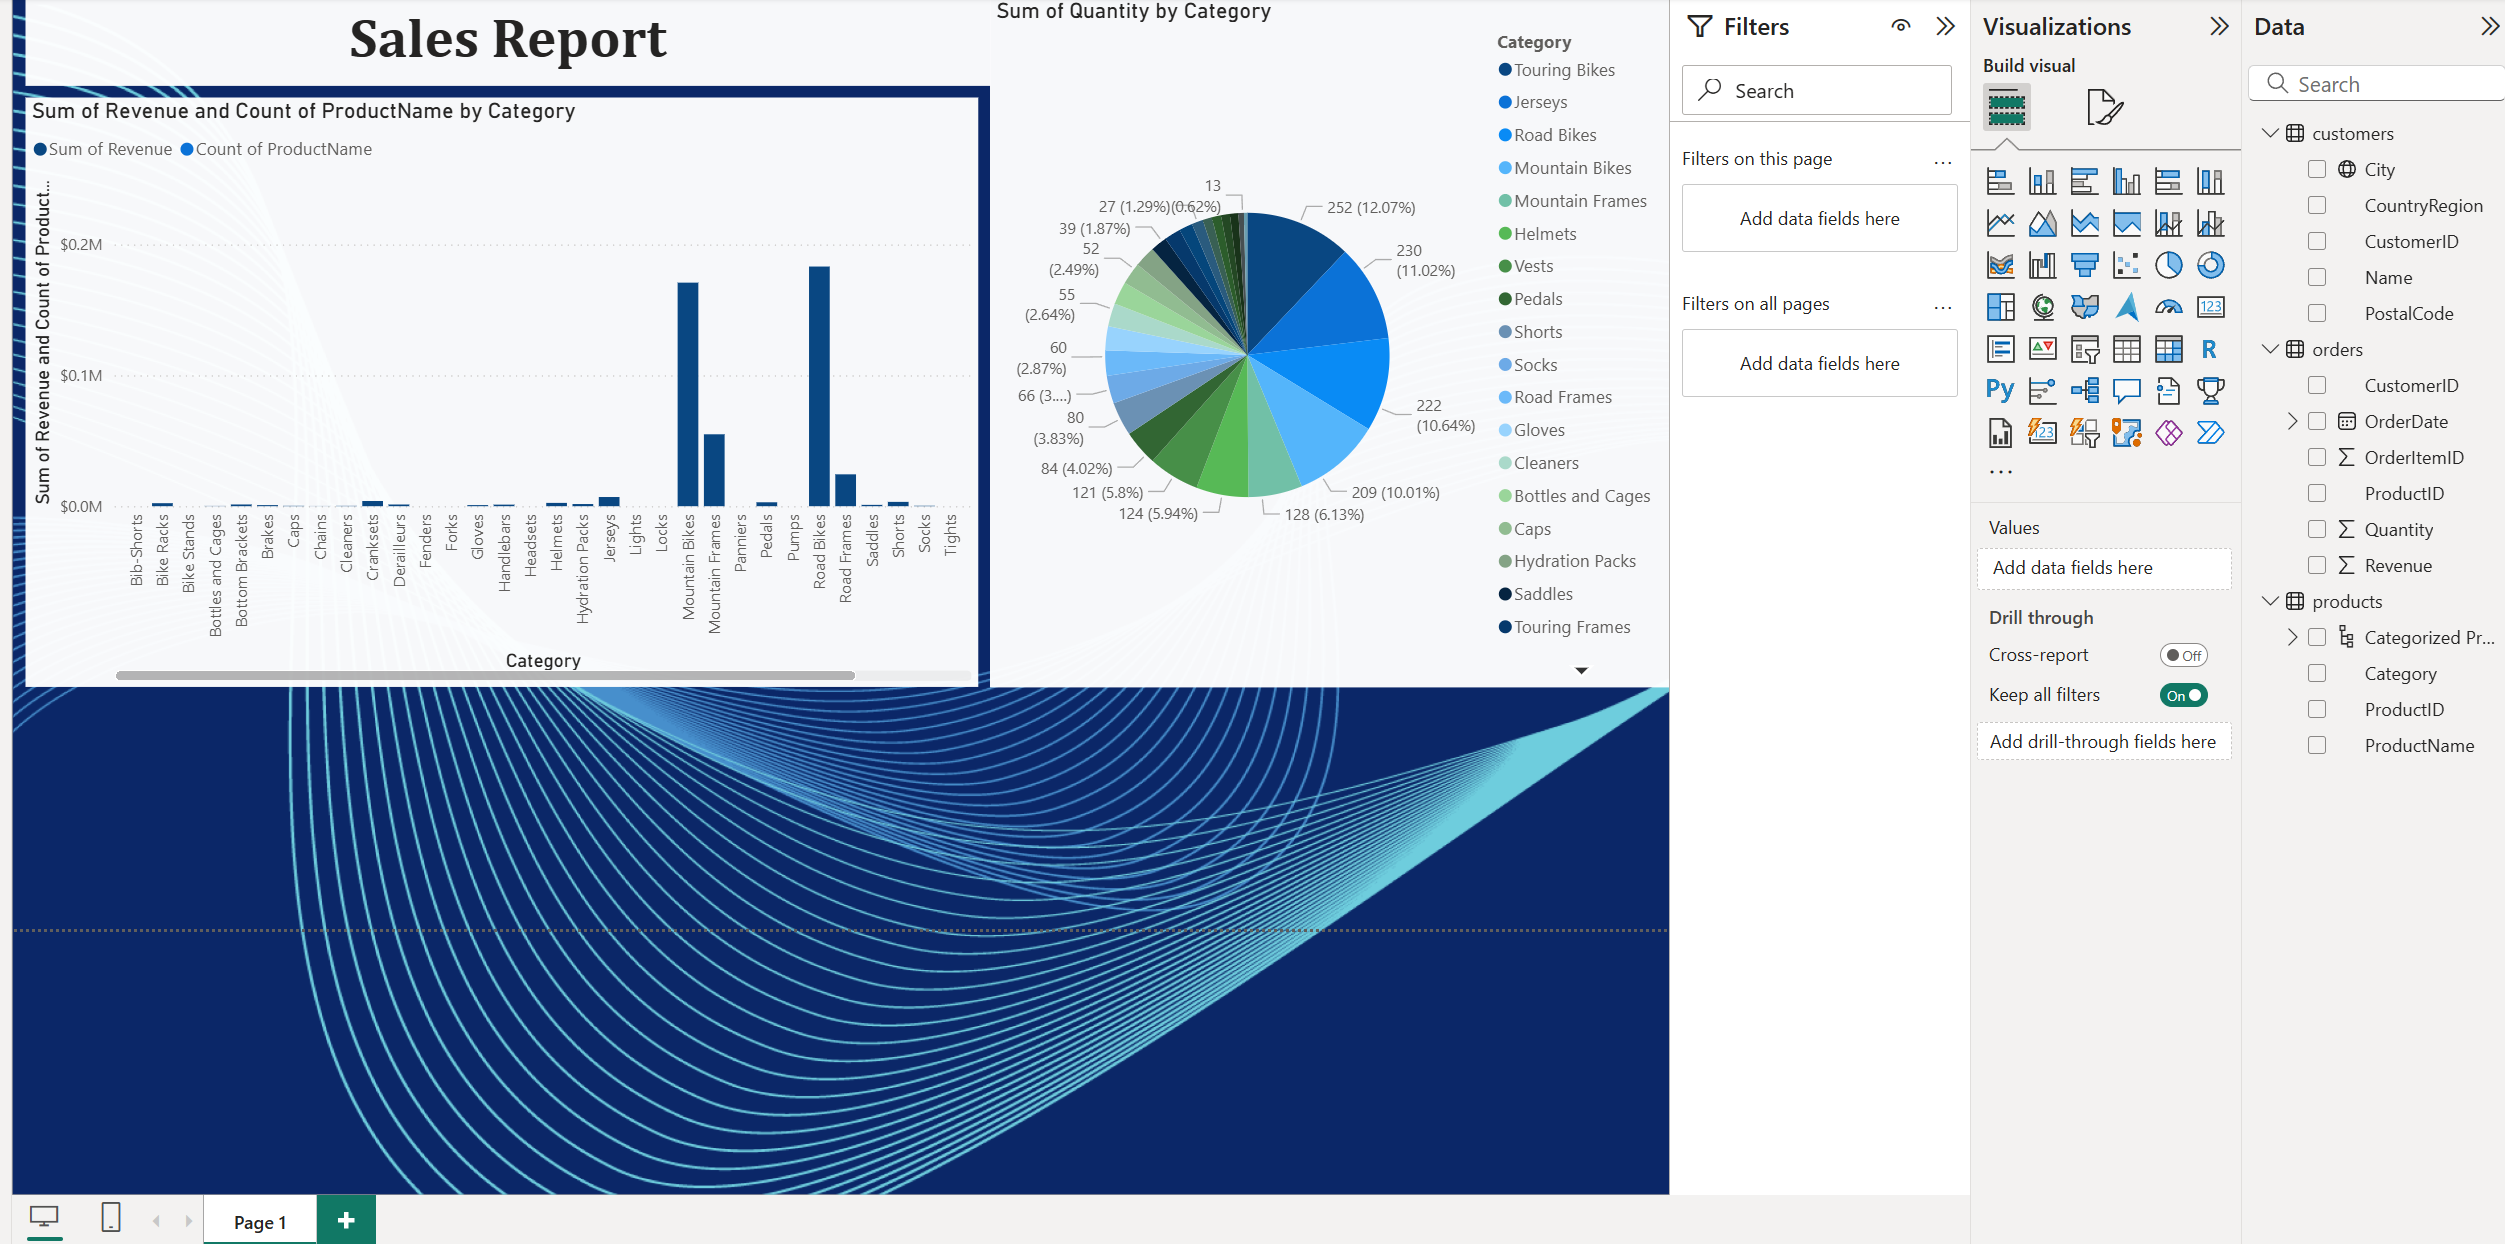

Layout of this report page (visuals, bound fields, positions):
{"tool":"powerbi","page":{"name":"Page 1","canvas":[1280,720],"ordinal":0},"visuals":[{"type":"textbox","box":[10.4,0,1270,68.4],"z":0},{"type":"columnChart","fields":{"Category":["products.Categorized Product.Category","products.Categorized Product.ProductName"],"Y":["Sum(orders.Revenue)","CountNonNull(products.ProductName)"]},"box":[0,264.2,745.1,455.4],"z":1000},{"type":"pieChart","fields":{"Category":["products.Category"],"Y":["Sum(orders.Quantity)"]},"box":[745.1,264.2,535.3,455.4],"z":2000},{"type":"map","fields":{"Category":["customers.City"],"Size":["Sum(orders.Revenue)"]},"box":[10.4,68.4,1270,185.4],"z":3000}]}

Visuals, with their boxes on the page's 1280x720 design canvas (x1, y1, x2, y2). These are canvas units, not pixel positions in the 2505x1244 screenshot, which may show the page scaled, cropped or inside an application window:
textbox: box(10, 0, 1280, 68)
columnChart - products.Categorized Product.Category x products.Categorized Product.ProductName: box(0, 264, 745, 720)
pieChart - products.Category x Sum(orders.Quantity): box(745, 264, 1280, 720)
map - customers.City x Sum(orders.Revenue): box(10, 68, 1280, 254)
